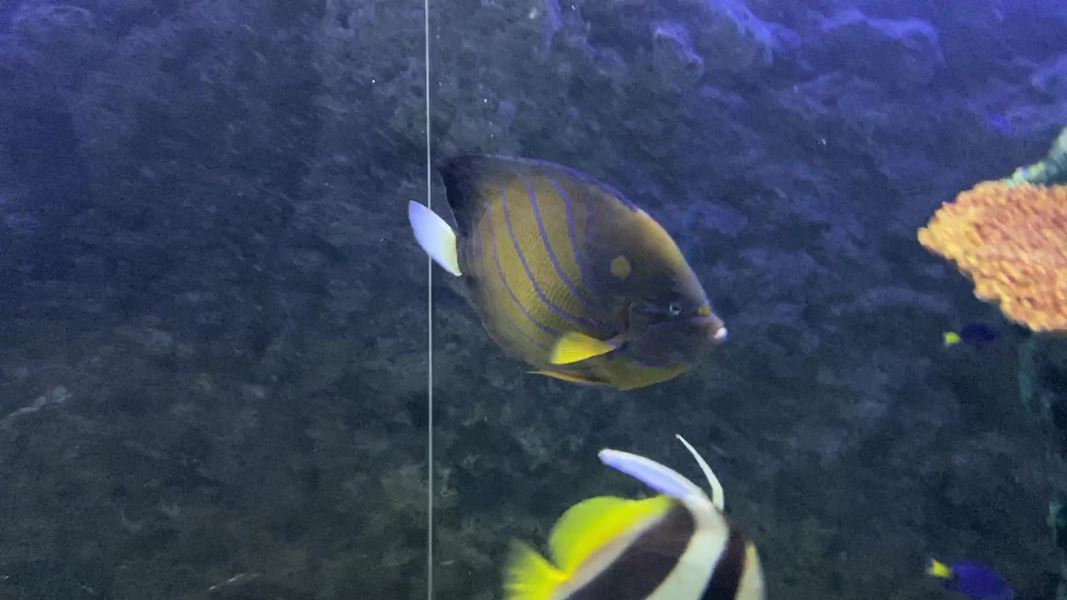Blue ring angelfish: (381, 123, 744, 417)
